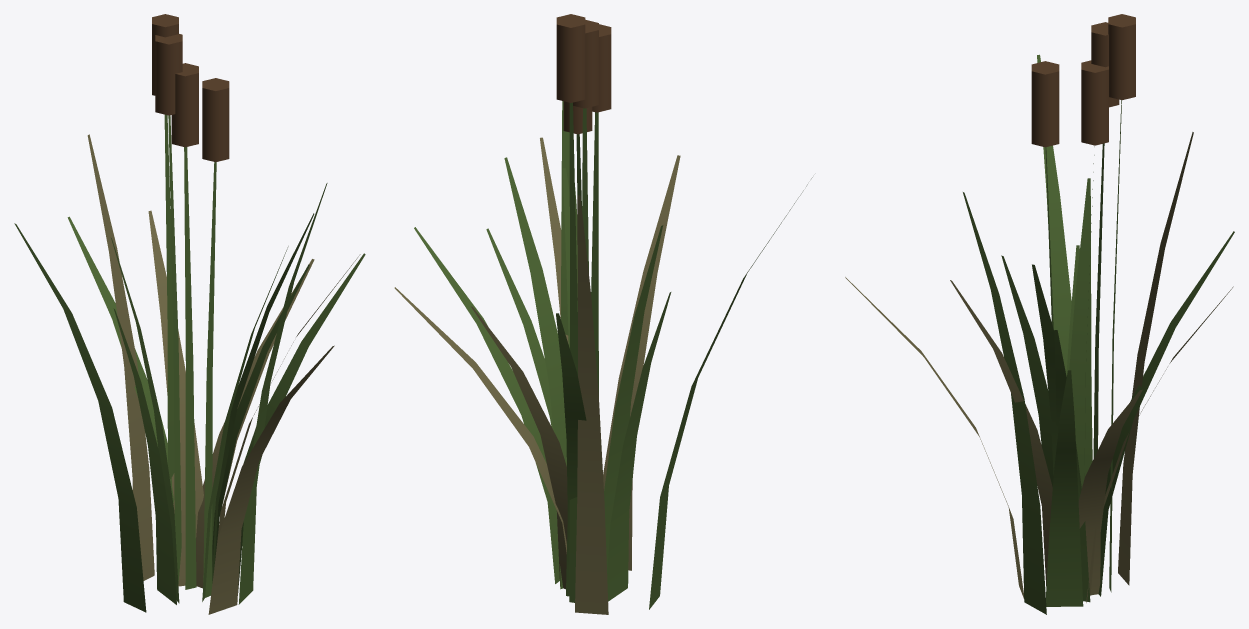
The picture shows the model from 3 angles, left to right: view 1: azimuth 30°, elevation 25°; view 2: azimuth 150°, elevation 25°; view 3: azimuth 270°, elevation 25°; orthographic projection. The views are drawn at different scales.
Visible parts, largest first — view 1: shore-cattails; view 2: shore-cattails; view 3: shore-cattails.
Part boxes in pixels (box(x1,y1,x2,y2)): shore-cattails: box(14, 14, 365, 614); shore-cattails: box(394, 14, 812, 614); shore-cattails: box(845, 14, 1234, 614).
Size of the model in its own units: 1.08 by 1.56 by 0.9718.
